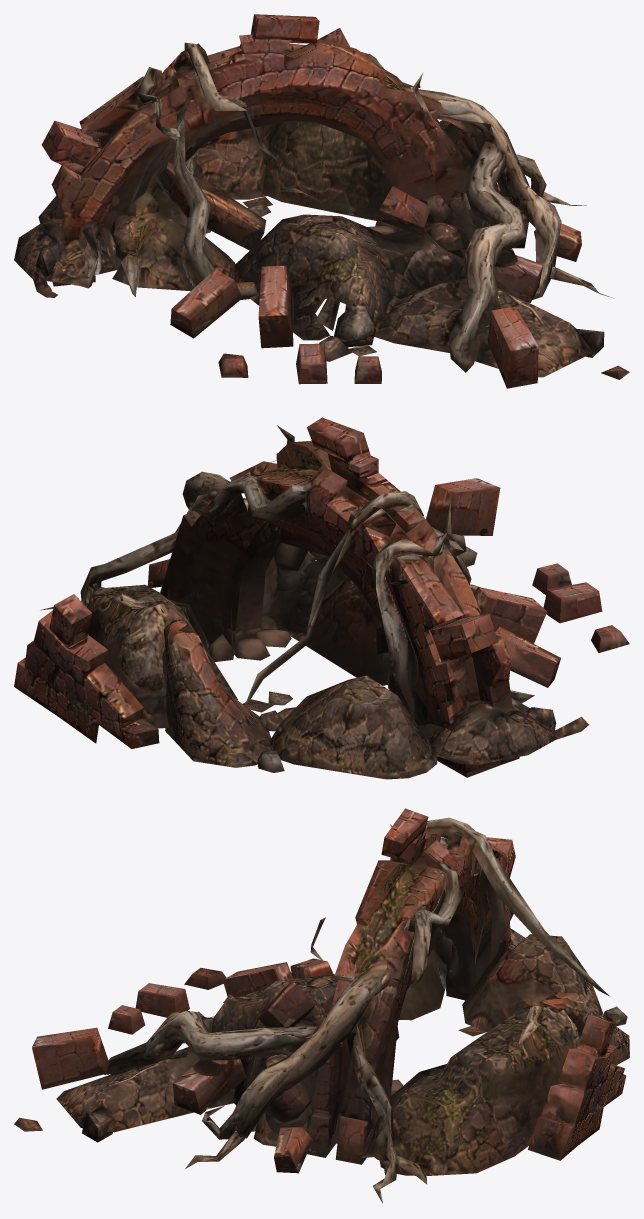
File: act1_kit_v1_root_fall.glb
3 views of the same model, one above another, from view 1: azimuth 30°, elevation 25°; view 2: azimuth 150°, elevation 25°; view 3: azimuth 270°, elevation 25° (orthographic). The views are drawn at different scales.
Visible parts, largest first — view 1: A25_3_root_fall; view 2: A25_3_root_fall; view 3: A25_3_root_fall.
Part boxes in pixels (x1,y1,x2,y2): A25_3_root_fall: (14,14,629,388); A25_3_root_fall: (14,417,629,779); A25_3_root_fall: (14,808,629,1203).
Size of the model in its own units: 0.932 by 0.4362 by 0.9655.
1 material, 1 textured.
